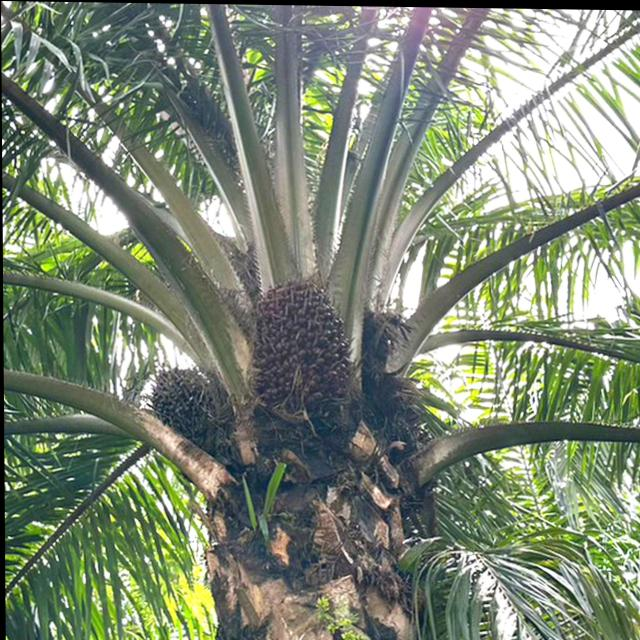ripe: (249, 274, 350, 402), (143, 363, 236, 454)
